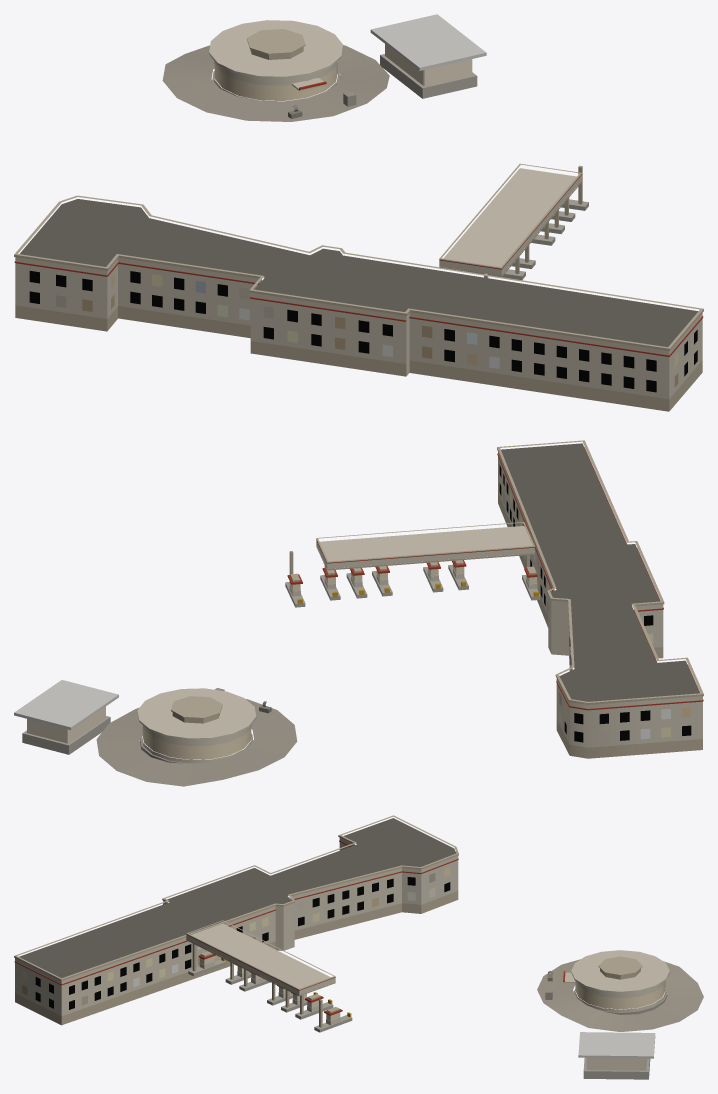
Rendered from ggPlaza_lod1.glb.
The picture shows the model from 3 angles, top to bottom: view 1: azimuth 30°, elevation 25°; view 2: azimuth 150°, elevation 25°; view 3: azimuth 270°, elevation 25°; orthographic projection. The views are drawn at different scales.
Parts seen in each view (by area): view 1: L1_stucco, L1_roof, L1_paving, L1_win, L1_paint, L1_shop, L1_concrete; view 2: L1_stucco, L1_roof, L1_paving, L1_paint, L1_shop, L1_concrete, L1_win; view 3: L1_stucco, L1_roof, L1_paving, L1_win, L1_paint, L1_shop, L1_concrete.
Boxes of the visible parts, left/top/right/bottom form: L1_stucco: left=14, top=14, right=703, bottom=411; L1_roof: left=20, top=199, right=698, bottom=347; L1_paving: left=162, top=45, right=389, bottom=121; L1_win: left=29, top=271, right=697, bottom=392; L1_paint: left=14, top=81, right=703, bottom=356; L1_shop: left=214, top=44, right=472, bottom=100; L1_concrete: left=380, top=54, right=588, bottom=280; L1_stucco: left=14, top=440, right=703, bottom=763; L1_roof: left=501, top=443, right=699, bottom=701; L1_paving: left=96, top=699, right=297, bottom=786; L1_paint: left=265, top=447, right=703, bottom=710; L1_shop: left=27, top=564, right=536, bottom=759; L1_concrete: left=22, top=564, right=540, bottom=754; L1_win: left=499, top=465, right=691, bottom=742; L1_stucco: left=14, top=815, right=669, bottom=1058; L1_roof: left=19, top=818, right=455, bottom=978; L1_paving: left=537, top=959, right=703, bottom=1031; L1_win: left=22, top=848, right=450, bottom=1009; L1_paint: left=14, top=840, right=565, bottom=1027; L1_shop: left=200, top=956, right=665, bottom=1070; L1_concrete: left=188, top=959, right=650, bottom=1079.
Bounding box in the file's own units: 101 × 12.56 × 137.
